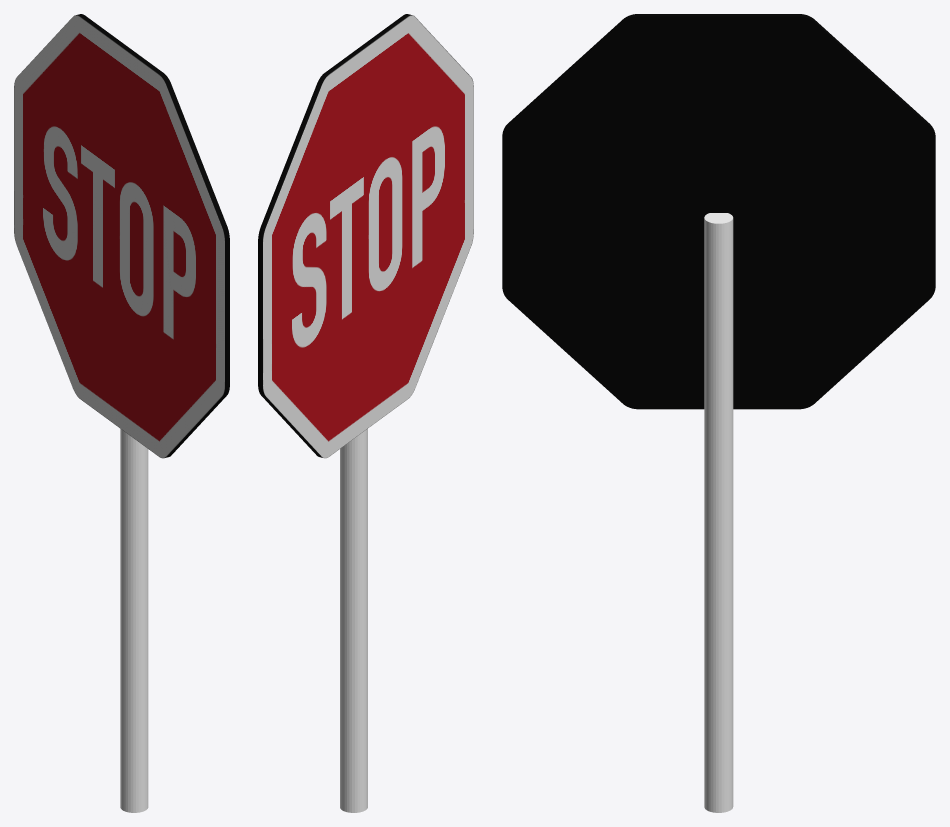
File: stop_sign.dae
The picture shows the model from 3 angles, left to right: view 1: azimuth 30°, elevation 25°; view 2: azimuth 150°, elevation 25°; view 3: azimuth 270°, elevation 25°; orthographic projection. The views are drawn at different scales.
Visible parts, largest first — view 1: path6612, Cylinder; view 2: path6612, Cylinder; view 3: path6612, Cylinder.
Boxes of the visible parts, <box> form: path6612: <box>14,14,229,458</box>; Cylinder: <box>120,429,148,812</box>; path6612: <box>258,14,473,458</box>; Cylinder: <box>340,429,367,812</box>; path6612: <box>502,14,935,409</box>; Cylinder: <box>704,213,733,812</box>.
Bounding box in the file's own units: 0.011 × 0.15 × 0.3.
3 materials, 2 textured.
